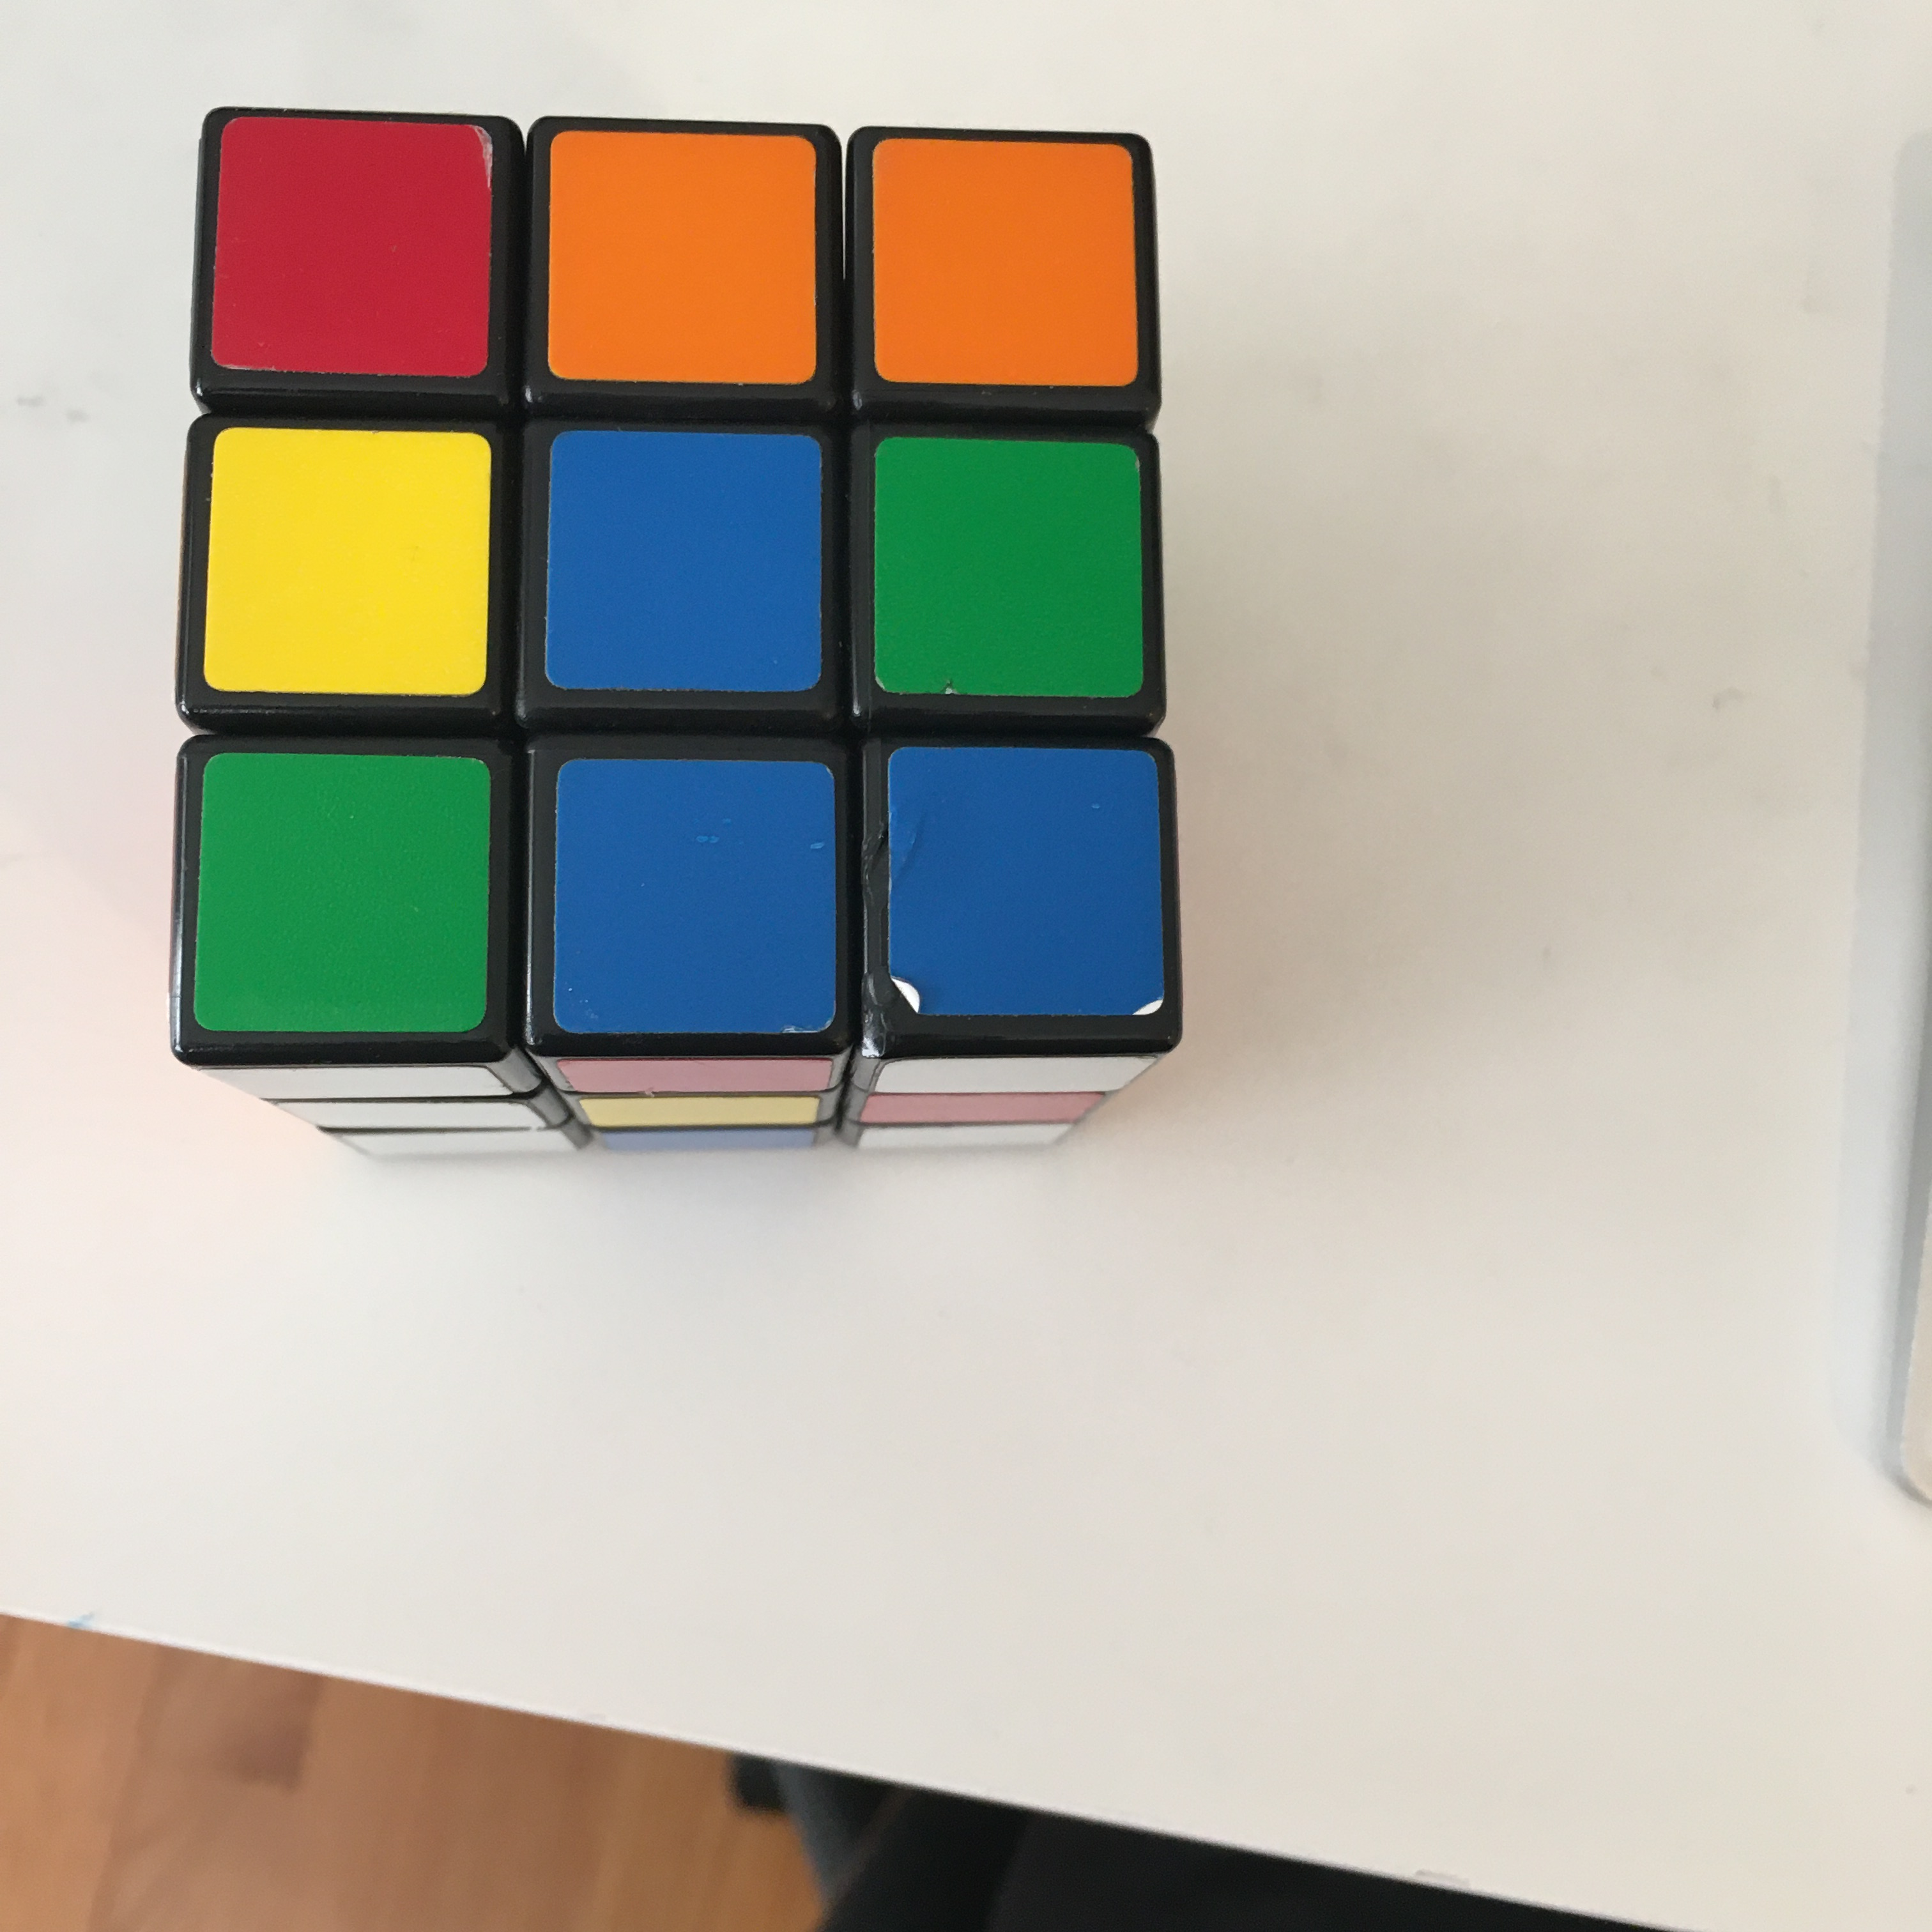face: (181, 109, 1187, 1034)
